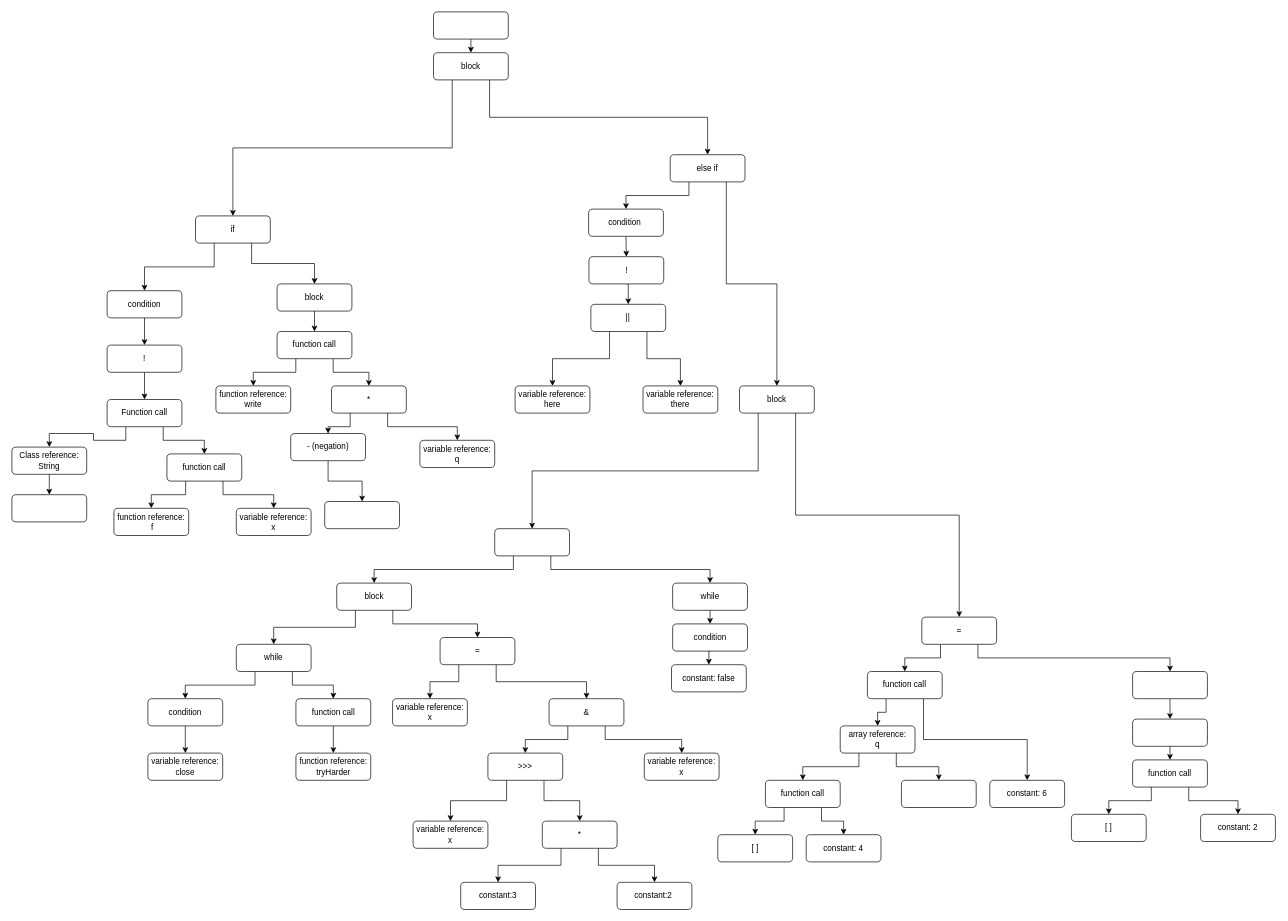
The diagram is 1288 pixels wide and 921 high, and some of its shapes have lost their labels. Each missing label, with the centre of its shape:
"array reference: list" goes at pixel 1169 732.
"constant: 3" goes at pixel 362 515.
"do" goes at pixel 532 542.
"Method: g" goes at pixel 938 794.
"Method: matches" goes at pixel 49 508.
"Object reference: person" goes at pixel 1169 685.
"program" goes at pixel 470 25.
